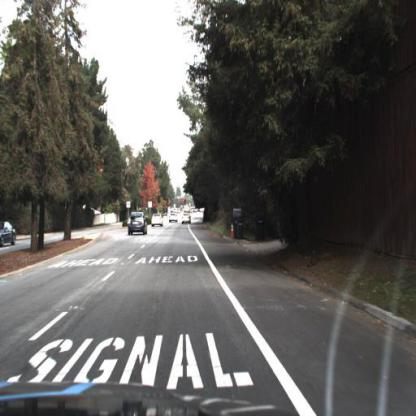car: (125, 209, 148, 238), (0, 220, 18, 249), (178, 202, 194, 225), (148, 211, 162, 229), (167, 210, 177, 226)
